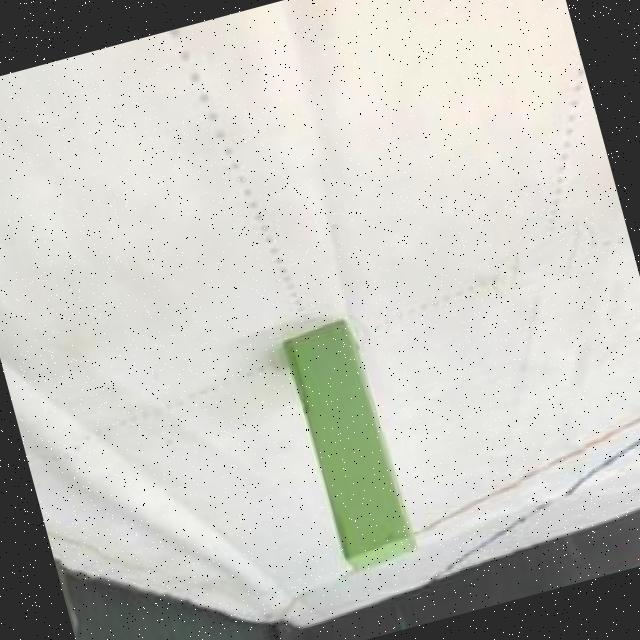greenbox: (284, 316, 419, 574)
